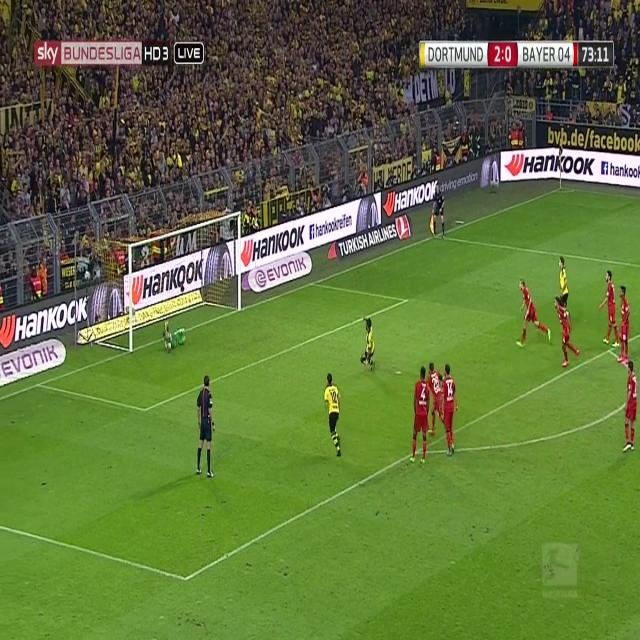Goalkeeper: (160, 318, 188, 356)
Player: (516, 278, 554, 350), (409, 365, 432, 467), (552, 298, 582, 371), (440, 362, 460, 459), (597, 269, 621, 349), (323, 370, 344, 460), (620, 358, 638, 454), (426, 358, 446, 437), (358, 313, 380, 374), (620, 283, 630, 364), (557, 254, 572, 302)
Referee: (194, 373, 216, 481), (430, 182, 448, 242)
